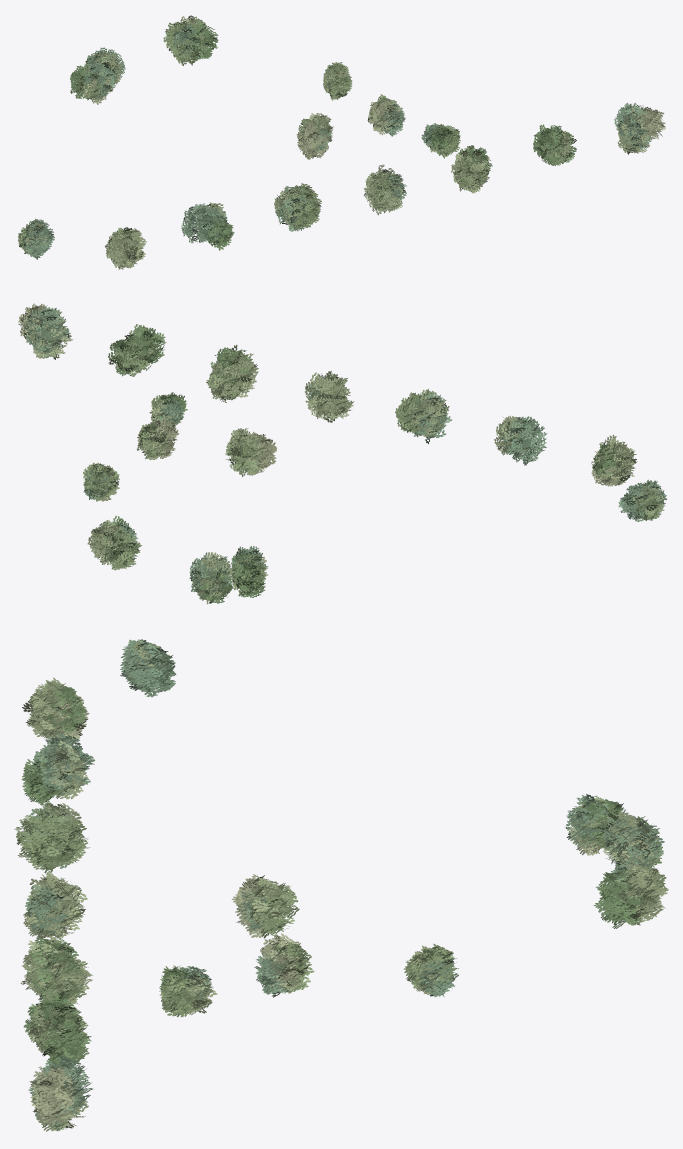
The model's file is campus-tree--3_-1-near.glb.
3 views of the same model, one above another, from view 1: azimuth 30°, elevation 25°; view 2: azimuth 150°, elevation 25°; view 3: azimuth 270°, elevation 25° (orthographic). The views are drawn at different scales.
Parts seen in each view (by area): view 1: Campus leaf canopy; view 2: Campus leaf canopy; view 3: Campus leaf canopy.
Boxes of the visible parts, left/top/right/bottom form: Campus leaf canopy: left=18, top=15, right=665, bottom=269; Campus leaf canopy: left=18, top=303, right=667, bottom=603; Campus leaf canopy: left=14, top=639, right=668, bottom=1131.
Bounding box in the file's own units: 79.5 × 7 × 49.04.
1 material, 1 textured.
